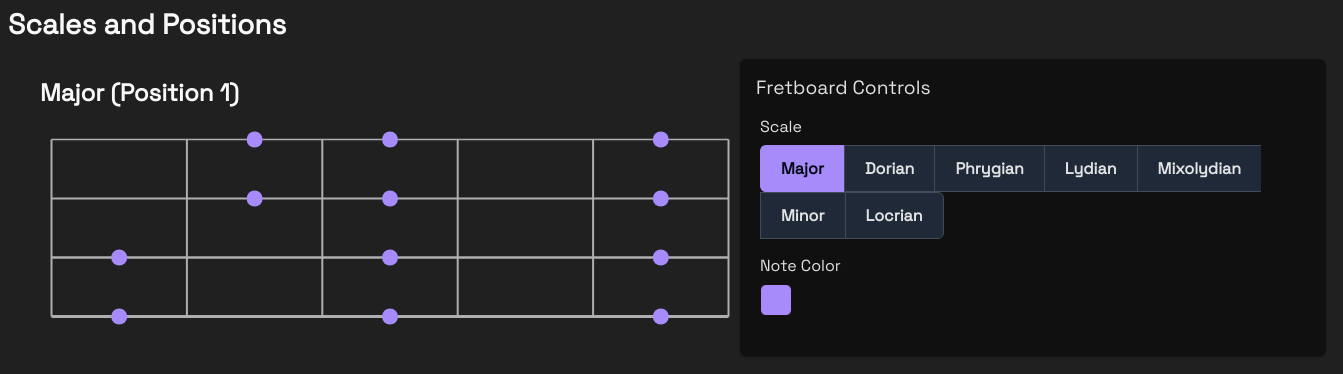
Test: Scales › scale selection › updates the subtitle when Minor is selected
Click the button "Minor".
click(802, 215)  # box [760,192,844,239]
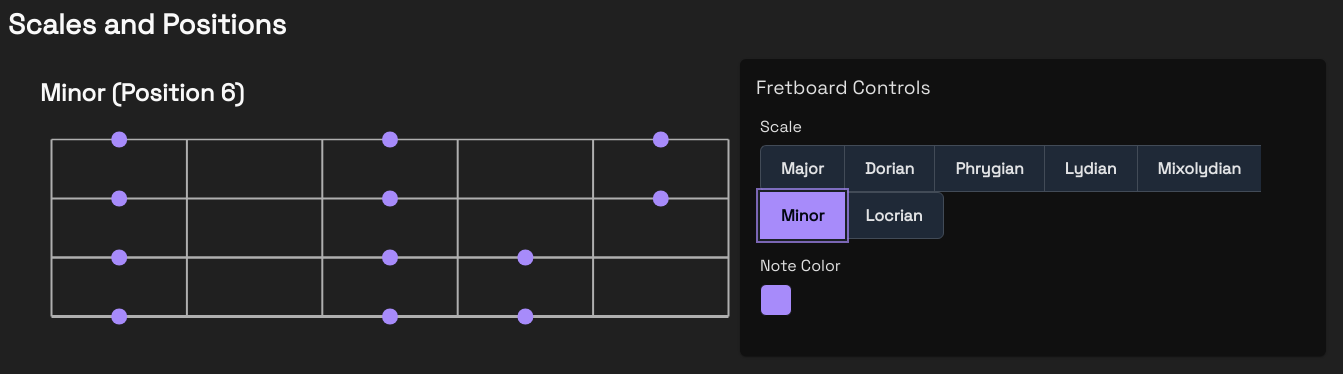
expect the heading "Minor (Position 6)" is shown: met, box [40,77,244,108]
